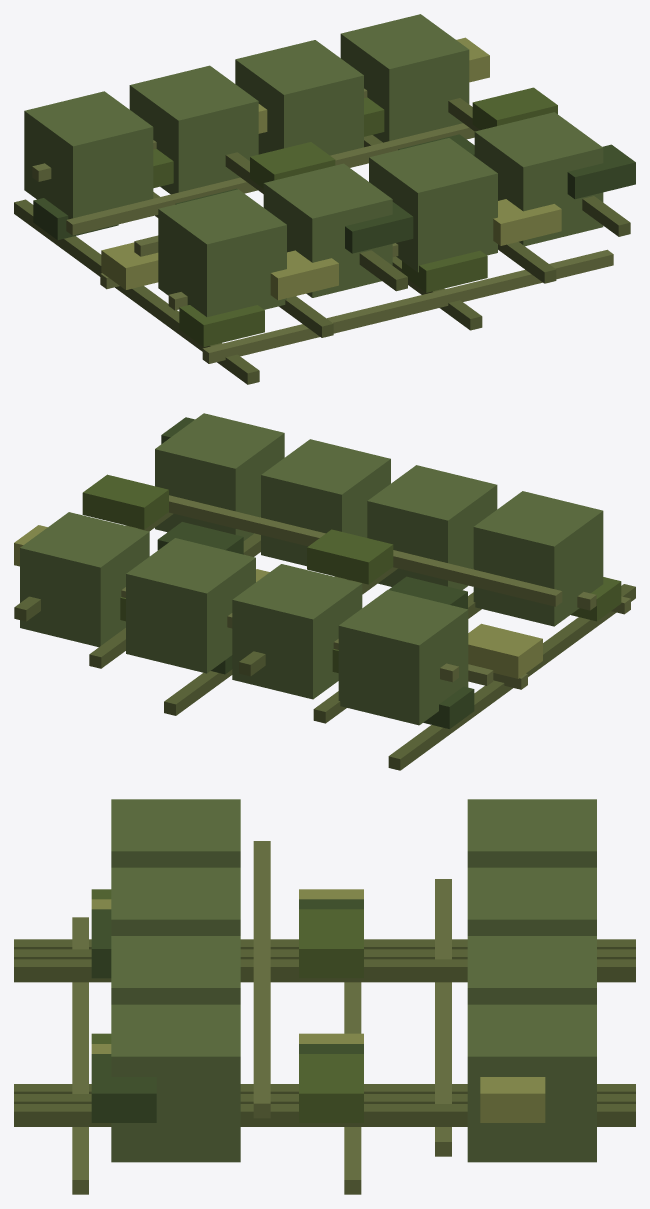
Rendered from CMU3DHeavyVines.glb.
3 views of the same model, one above another, from view 1: azimuth 30°, elevation 25°; view 2: azimuth 150°, elevation 25°; view 3: azimuth 270°, elevation 25° (orthographic). The views are drawn at different scales.
Visible parts, largest first — view 1: dense foliage knot (×8), leaf cluster (×13), vine cross branch (×2), vine stem (×6); view 2: dense foliage knot (×8), leaf cluster (×7), vine stem (×6), vine cross branch; view 3: dense foliage knot (×8), vine stem (×6), leaf cluster (×9), vine cross branch (×4).
Part boxes in pixels (<box>): dense foliage knot (×8): <box>24,14,603,316</box>; leaf cluster (×13): <box>33,37,635,346</box>; vine cross branch (×2): <box>66,123,613,363</box>; vine stem (×6): <box>14,98,630,384</box>; dense foliage knot (×8): <box>20,413,603,725</box>; leaf cluster (×7): <box>82,474,621,728</box>; vine stem (×6): <box>14,512,635,770</box>; vine cross branch: <box>169,495,562,606</box>; dense foliage knot (×8): <box>111,799,596,1162</box>; vine stem (×6): <box>14,939,635,1126</box>; leaf cluster (×9): <box>91,889,545,1122</box>; vine cross branch (×4): <box>72,841,451,1194</box>.
Bounding box in the file's own units: 1.03 × 0.26 × 0.96.
